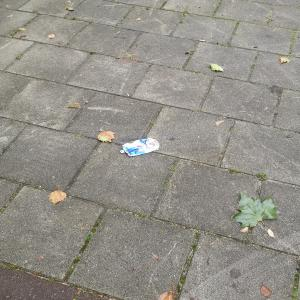Can: (119, 135, 164, 161)
